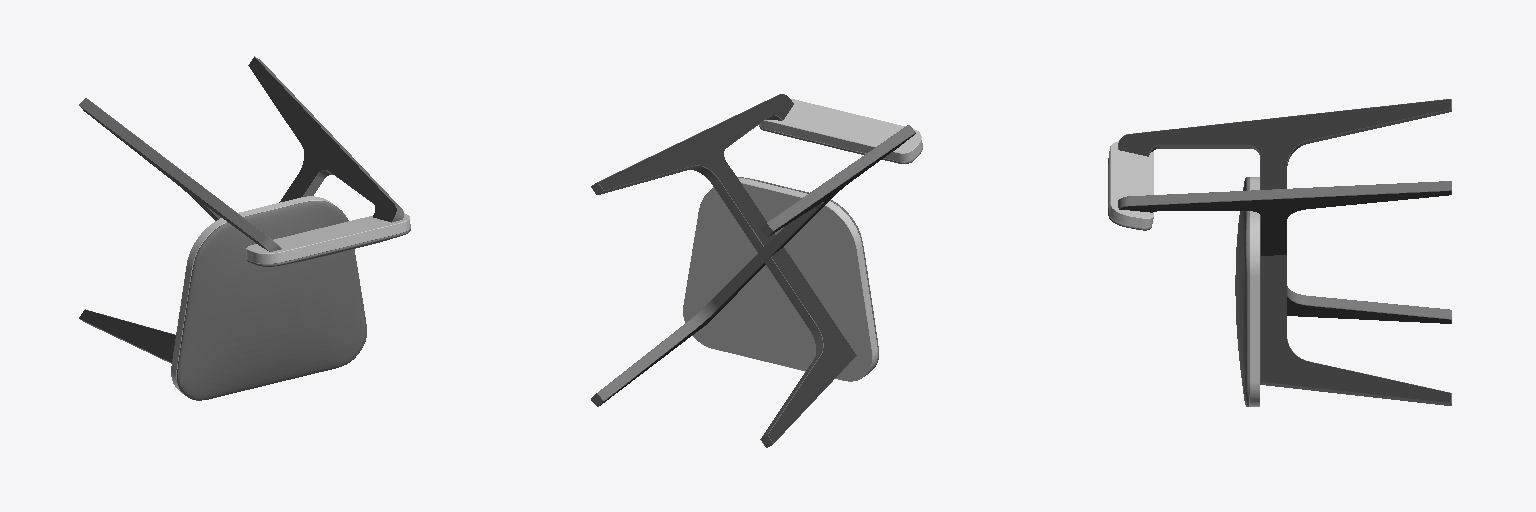
File: odesd2_C4_obj.obj
3 renders of one model, left to right at view 1: azimuth 30°, elevation 25°; view 2: azimuth 150°, elevation 25°; view 3: azimuth 270°, elevation 25°, orthographic.
Parts seen in each view (by area): view 1: odesd2_C4; view 2: odesd2_C4; view 3: odesd2_C4.
Boxes of the visible parts, x1=… form: odesd2_C4: x1=79, y1=56, x2=410, y2=400; odesd2_C4: x1=591, y1=94, x2=922, y2=447; odesd2_C4: x1=1108, y1=99, x2=1451, y2=406.
Bounding box in the file's own units: 49.31 × 57.61 × 77.23.